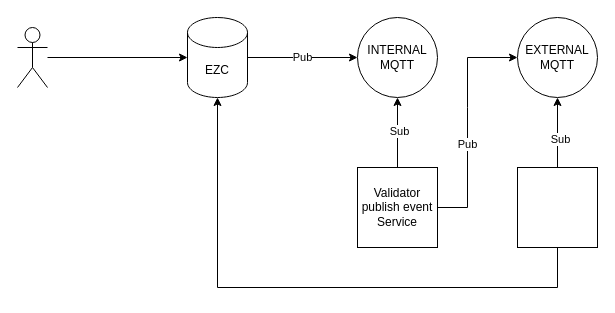
This 615x313 diagram has some shape labels left out. Here are the shapes that lost their labels. From the top down, the box of each, then its label:
(16, 26, 48, 88): Client
(516, 166, 598, 248): Fee Payer Service
